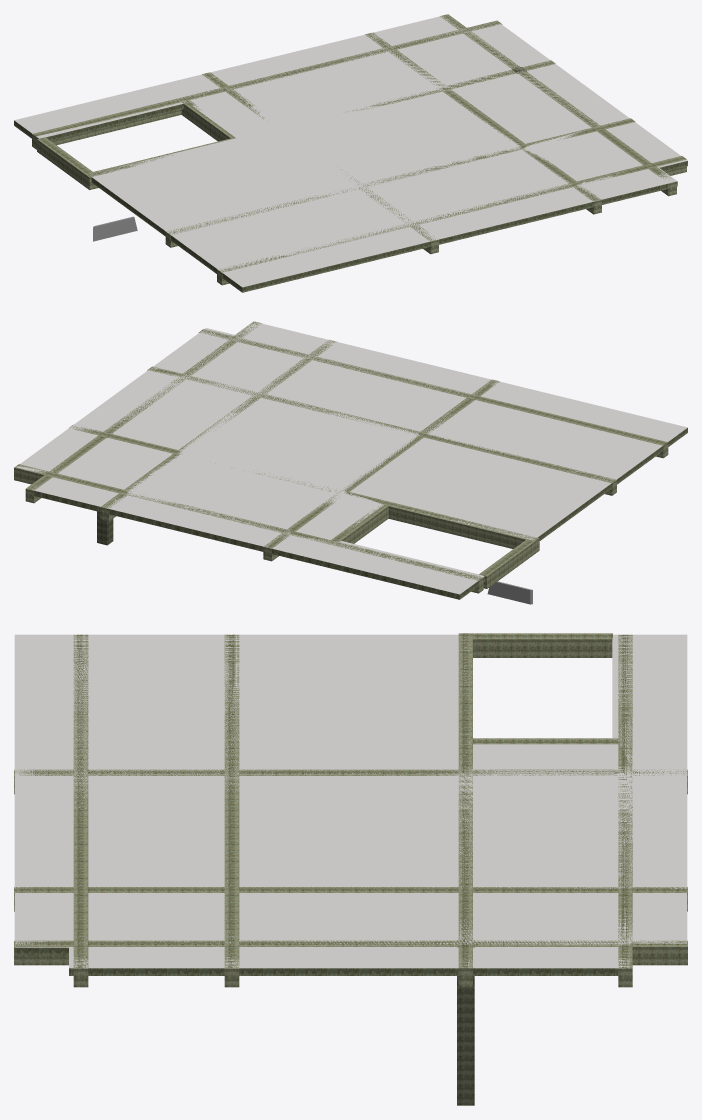
The picture shows the model from 3 angles, top to bottom: view 1: azimuth 30°, elevation 25°; view 2: azimuth 150°, elevation 25°; view 3: azimuth 270°, elevation 25°; orthographic projection. The views are drawn at different scales.
Parts seen in each view (by area): view 1: Floor Floor-Grnd-Susp_65Scr-80Ins-100Blk-75PC [658864]001, Concrete - Rectangular Beam 250 x 350 mm [660211]001, Concrete - Rectangular Beam 250 x 350 mm [660381]001, Concrete - Rectangular Beam 250 x 350 mm [660640]001, Concrete - Rectangular Beam 250 x 350 mm [660540]001, Concrete - Rectangular Beam 250 x 350 mm [660328]001, Concrete - Rectangular Beam 250 x 350 mm [660267]001, Concrete - Rectangular Beam 250 x 350 mm [673719]001, Concrete - Rectangular Beam 250 x 350 mm [660470]001, Concrete - Rectangular Beam 250 x 350 mm [660973]001, Assembled Stair Stair [675302]_[675345]001; view 2: Floor Floor-Grnd-Susp_65Scr-80Ins-100Blk-75PC [658864]001, Concrete - Rectangular Beam 250 x 350 mm [660267]001, Concrete - Rectangular Beam 250 x 350 mm [660211]001, Concrete - Rectangular Beam 250 x 350 mm [660381]001, Concrete - Rectangular Beam 250 x 350 mm [660328]001, Concrete - Rectangular Beam 250 x 350 mm [660640]001, Concrete - Rectangular Beam 250 x 350 mm [660470]001, Concrete - Rectangular Beam 250 x 350 mm [660540]001, Concrete - Rectangular Beam 250 x 350 mm [673719]001, Concrete - Rectangular Beam 250 x 350 mm [660973]001, Assembled Stair Stair [675302]_[675345]001, Columns_Rectangular 300 x 300 mm [625676]001; view 3: Floor Floor-Grnd-Susp_65Scr-80Ins-100Blk-75PC [658864]001, Concrete - Rectangular Beam 250 x 350 mm [660640]001, Concrete - Rectangular Beam 250 x 350 mm [660381]001, Concrete - Rectangular Beam 250 x 350 mm [660328]001, Concrete - Rectangular Beam 250 x 350 mm [660267]001, Concrete - Rectangular Beam 250 x 350 mm [660211]001, Concrete - Rectangular Beam 250 x 350 mm [660470]001, Concrete - Rectangular Beam 250 x 350 mm [660540]001, Concrete - Rectangular Beam 250 x 350 mm [673719]001, Columns_Rectangular 300 x 300 mm [625676]001, Concrete - Rectangular Beam 250 x 350 mm [660973]001.
Boxes of the visible parts, x1,y1,x2,y2 form: Floor Floor-Grnd-Susp_65Scr-80Ins-100Blk-75PC [658864]001: [14, 16, 687, 292]; Concrete - Rectangular Beam 250 x 350 mm [660211]001: [32, 20, 502, 149]; Concrete - Rectangular Beam 250 x 350 mm [660381]001: [217, 156, 686, 285]; Concrete - Rectangular Beam 250 x 350 mm [660640]001: [440, 14, 676, 196]; Concrete - Rectangular Beam 250 x 350 mm [660540]001: [365, 32, 601, 214]; Concrete - Rectangular Beam 250 x 350 mm [660328]001: [165, 118, 635, 247]; Concrete - Rectangular Beam 250 x 350 mm [660267]001: [84, 60, 555, 189]; Concrete - Rectangular Beam 250 x 350 mm [673719]001: [37, 137, 92, 186]; Concrete - Rectangular Beam 250 x 350 mm [660470]001: [202, 72, 438, 254]; Concrete - Rectangular Beam 250 x 350 mm [660973]001: [181, 100, 234, 141]; Assembled Stair Stair [675302]_[675345]001: [93, 216, 137, 241]; Floor Floor-Grnd-Susp_65Scr-80Ins-100Blk-75PC [658864]001: [16, 321, 687, 599]; Concrete - Rectangular Beam 250 x 350 mm [660267]001: [69, 424, 539, 553]; Concrete - Rectangular Beam 250 x 350 mm [660211]001: [14, 464, 483, 593]; Concrete - Rectangular Beam 250 x 350 mm [660381]001: [198, 329, 668, 458]; Concrete - Rectangular Beam 250 x 350 mm [660328]001: [147, 366, 616, 495]; Concrete - Rectangular Beam 250 x 350 mm [660640]001: [25, 321, 262, 503]; Concrete - Rectangular Beam 250 x 350 mm [660470]001: [263, 379, 499, 561]; Concrete - Rectangular Beam 250 x 350 mm [660540]001: [100, 339, 337, 521]; Concrete - Rectangular Beam 250 x 350 mm [673719]001: [479, 540, 534, 588]; Concrete - Rectangular Beam 250 x 350 mm [660973]001: [331, 505, 388, 543]; Assembled Stair Stair [675302]_[675345]001: [487, 581, 532, 604]; Columns_Rectangular 300 x 300 mm [625676]001: [97, 433, 113, 545]; Floor Floor-Grnd-Susp_65Scr-80Ins-100Blk-75PC [658864]001: [14, 634, 687, 975]; Concrete - Rectangular Beam 250 x 350 mm [660640]001: [14, 940, 687, 965]; Concrete - Rectangular Beam 250 x 350 mm [660381]001: [73, 634, 88, 987]; Concrete - Rectangular Beam 250 x 350 mm [660328]001: [224, 634, 239, 987]; Concrete - Rectangular Beam 250 x 350 mm [660267]001: [458, 633, 472, 986]; Concrete - Rectangular Beam 250 x 350 mm [660211]001: [618, 634, 632, 987]; Concrete - Rectangular Beam 250 x 350 mm [660470]001: [14, 769, 687, 794]; Concrete - Rectangular Beam 250 x 350 mm [660540]001: [14, 887, 687, 911]; Concrete - Rectangular Beam 250 x 350 mm [673719]001: [473, 633, 612, 657]; Columns_Rectangular 300 x 300 mm [625676]001: [457, 940, 474, 1105]; Concrete - Rectangular Beam 250 x 350 mm [660973]001: [473, 738, 618, 744].
Size of the model in its own units: 13.64 by 3 by 11.58.
5 materials, 3 textured.
